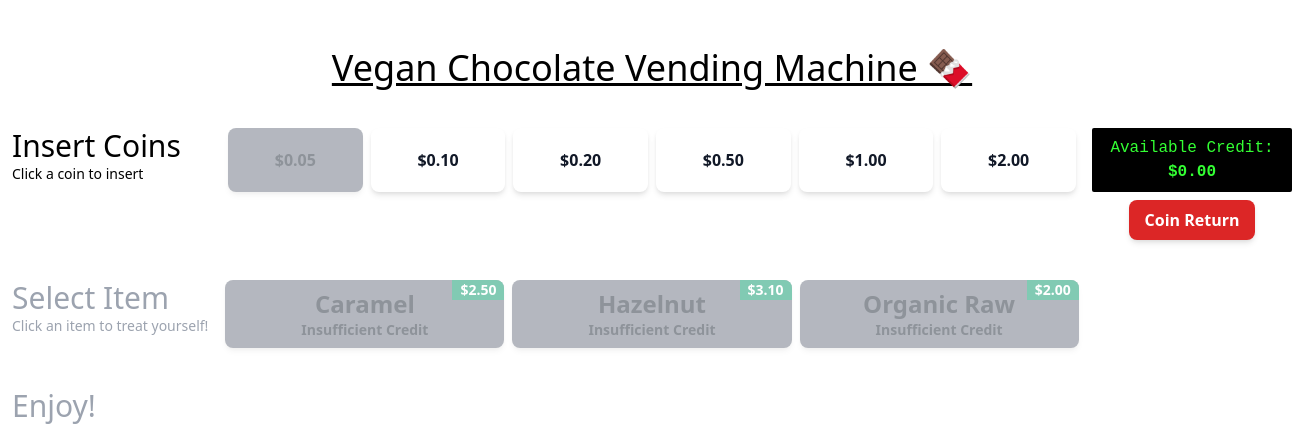
vending machine tests › should not allow invalid currency
Click the button "$0.05" at (295, 160), box [228,128,363,192]
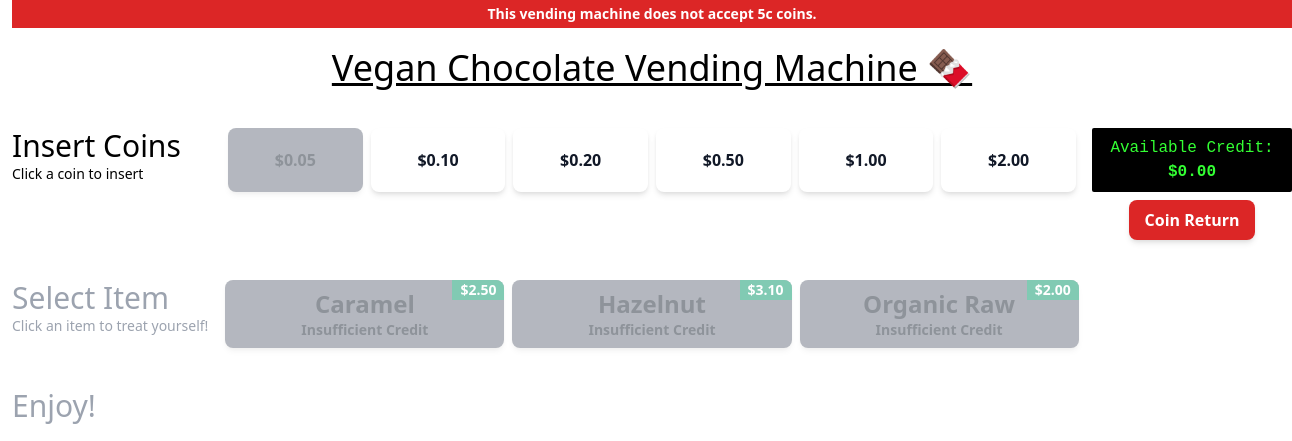
Check: the text "$0.00" is shown, box [1168,163,1216,181]
Check: the text "This vending machine does not accept 5c coins." is shown, box [487,4,817,23]
